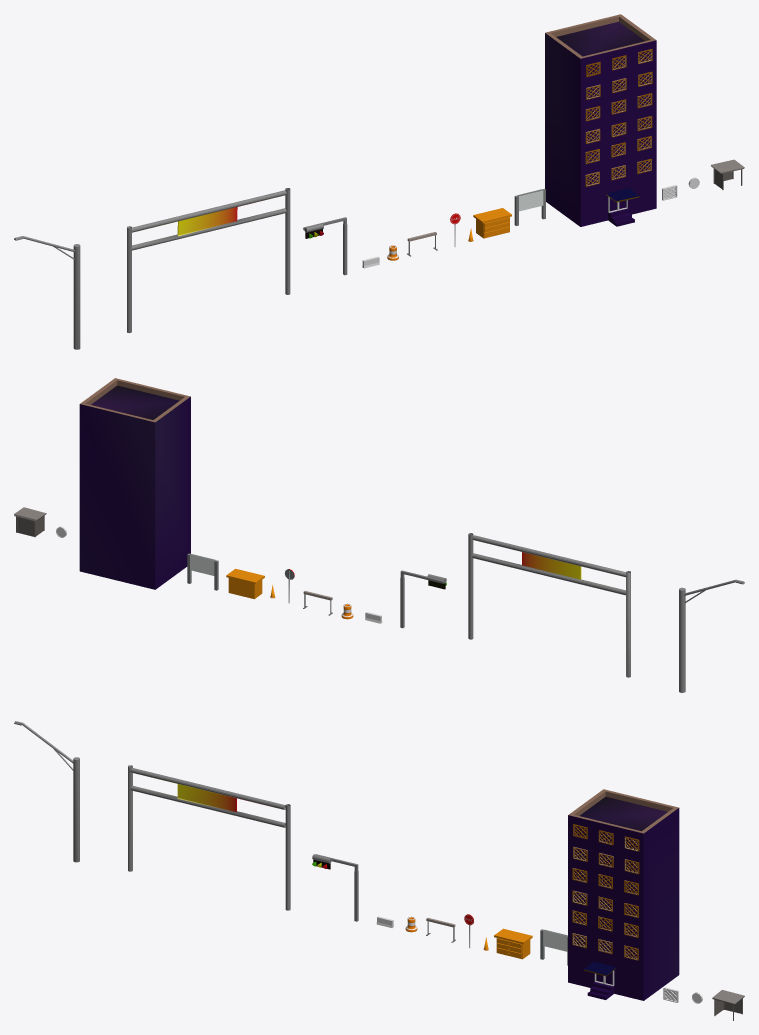
File: ObjetosSinalização.fbx
The picture shows the model from 3 angles, top to bottom: view 1: azimuth 30°, elevation 25°; view 2: azimuth 150°, elevation 25°; view 3: azimuth 330°, elevation 25°; orthographic projection.
Parts seen in each view (by area): view 1: Predio, LinhaDeChegada, PosteLuz, Mesa, PlacaInformativa, Semaforo, PontoDeOnibus; view 2: Predio, LinhaDeChegada, PosteLuz, Mesa, PontoDeOnibus, PlacaInformativa, Semaforo; view 3: Predio, LinhaDeChegada, PosteLuz, Mesa, Semaforo, PontoDeOnibus, PlacaInformativa.
Part boxes in pixels (box(x1,y1,x2,y2)): Predio: box(545, 14, 656, 226); LinhaDeChegada: box(127, 188, 290, 333); PosteLuz: box(14, 236, 80, 349); Mesa: box(473, 208, 511, 238); PlacaInformativa: box(514, 188, 545, 225); Semaforo: box(303, 217, 347, 275); PontoDeOnibus: box(711, 159, 744, 189); Predio: box(79, 378, 190, 589); LinhaDeChegada: box(468, 533, 630, 677); PosteLuz: box(679, 579, 744, 692); Mesa: box(226, 568, 264, 599); PontoDeOnibus: box(14, 507, 46, 537); PlacaInformativa: box(187, 553, 218, 590); Semaforo: box(400, 570, 446, 628); Predio: box(568, 789, 679, 1000); LinhaDeChegada: box(128, 765, 290, 910); PosteLuz: box(14, 721, 79, 862); Mesa: box(494, 928, 532, 959); Semaforo: box(312, 854, 358, 921); PontoDeOnibus: box(712, 990, 744, 1020); PlacaInformativa: box(540, 929, 567, 965).
Bounding box in the file's own units: 14426 × 3249 × 1580.
